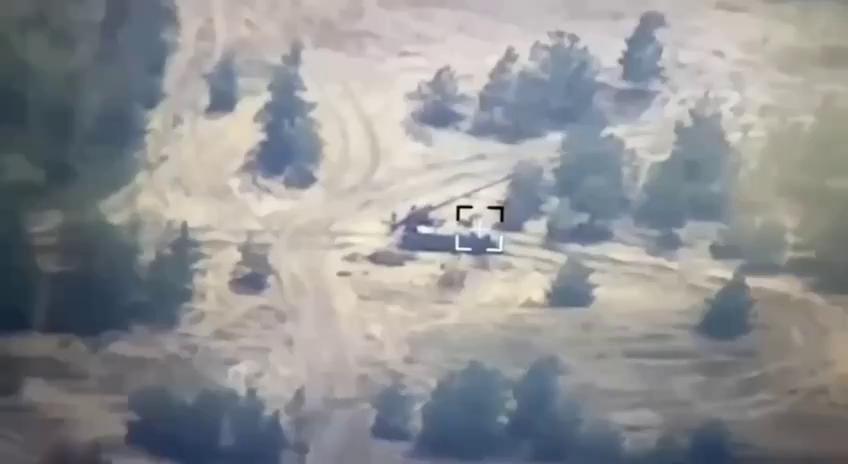tank: (383, 169, 511, 259)
